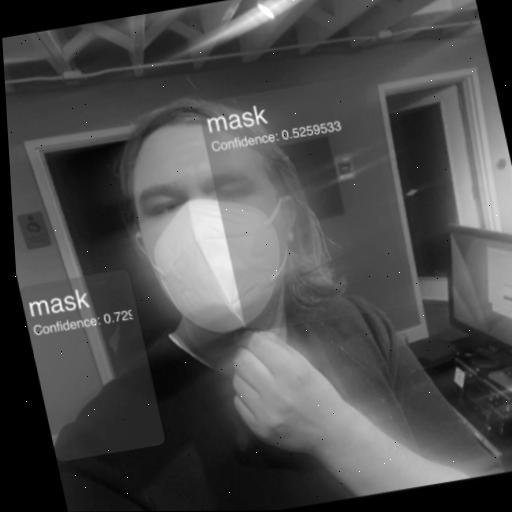mask: (94, 49, 361, 351)
